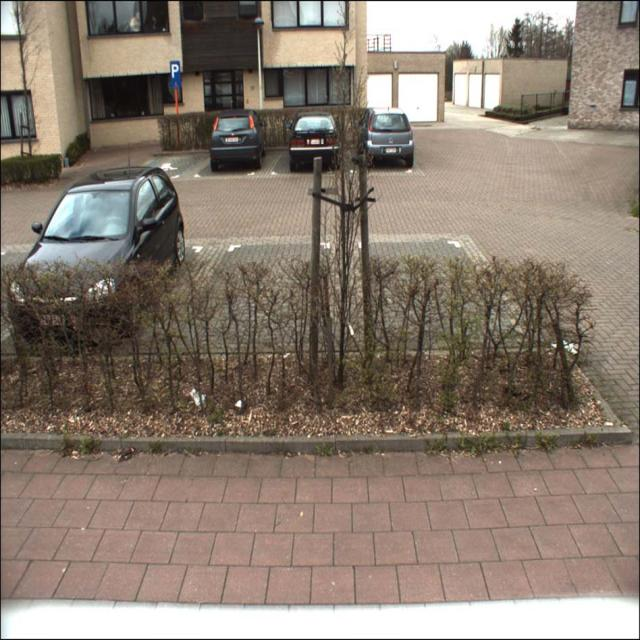park: (171, 62, 180, 78)
